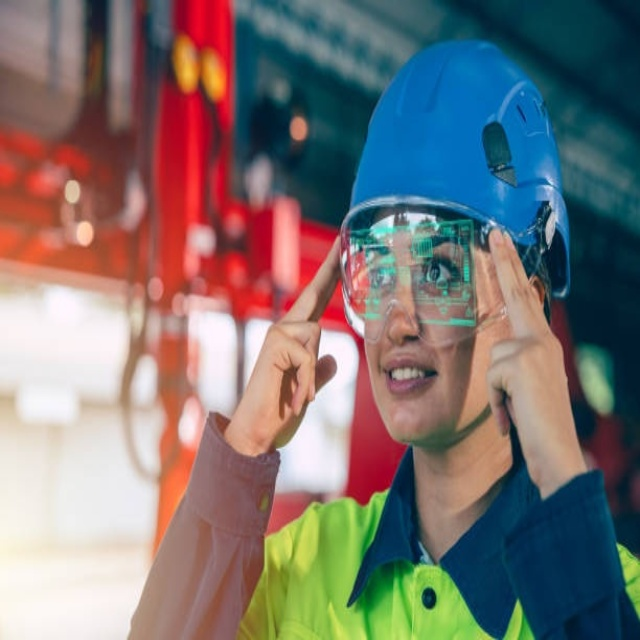Gafas: (337, 195, 494, 348)
Sin_guantes: (480, 225, 585, 491), (227, 241, 347, 458)
Sin_mascara: (373, 345, 448, 420)
